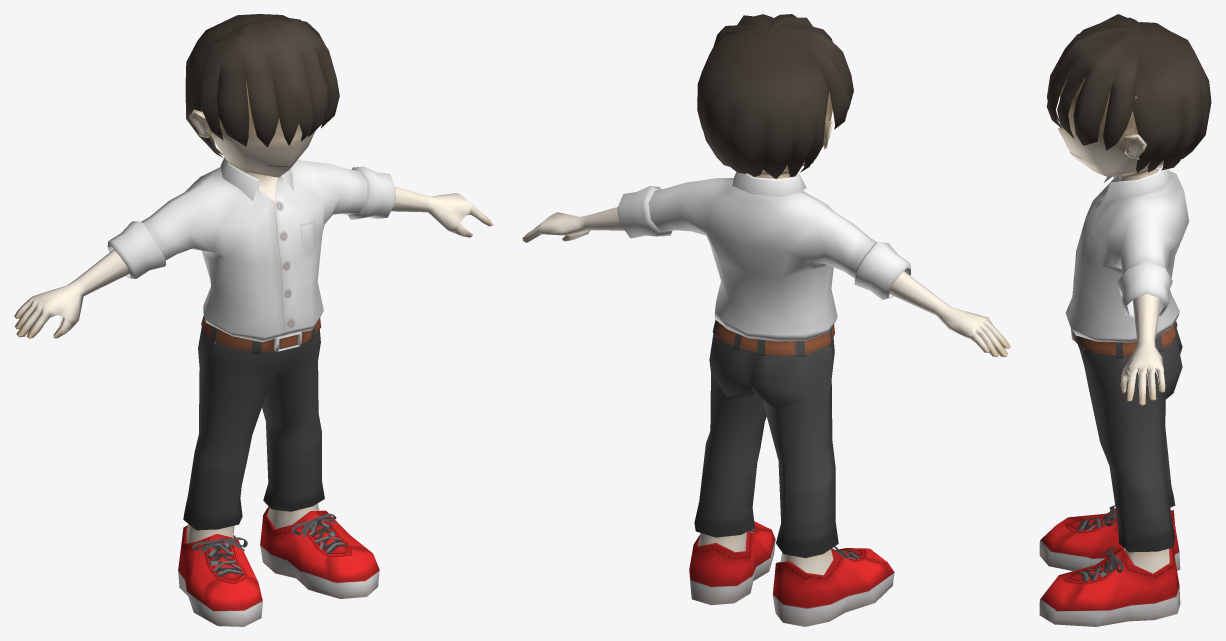
File: student_complete.fbx
The picture shows the model from 3 angles, left to right: view 1: azimuth 30°, elevation 25°; view 2: azimuth 150°, elevation 25°; view 3: azimuth 270°, elevation 25°; orthographic projection.
Visible parts, largest first — view 1: body, cloth, hair1, hair2, pCylinder4, pPlane1; view 2: body, cloth, hair2, hair1, pCylinder4; view 3: body, cloth, hair1, hair2, pCylinder4, pPlane1.
Boxes of the visible parts, left/top/right/bottom form: body: left=14, top=81, right=493, bottom=626; cloth: left=107, top=157, right=395, bottom=342; hair1: left=200, top=16, right=339, bottom=147; hair2: left=185, top=14, right=287, bottom=157; pCylinder4: left=201, top=316, right=321, bottom=351; pPlane1: left=192, top=513, right=338, bottom=555; body: left=522, top=92, right=1010, bottom=626; cloth: left=617, top=172, right=910, bottom=341; hair2: left=697, top=30, right=829, bottom=178; hair1: left=713, top=14, right=853, bottom=129; pCylinder4: left=714, top=320, right=834, bottom=355; body: left=1039, top=67, right=1182, bottom=626; cloth: left=1065, top=164, right=1189, bottom=342; hair1: left=1047, top=14, right=1141, bottom=150; hair2: left=1072, top=22, right=1211, bottom=172; pCylinder4: left=1071, top=321, right=1176, bottom=356; pPlane1: left=1101, top=505, right=1123, bottom=574.
Bounding box in the file's own units: 84.41 × 95.83 × 26.65.
Materials: 2 (2 with a texture image).
